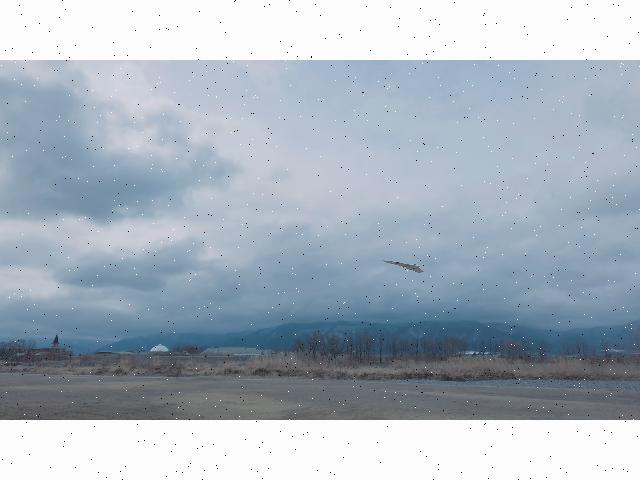Anti-Drone: (379, 254, 425, 275)
